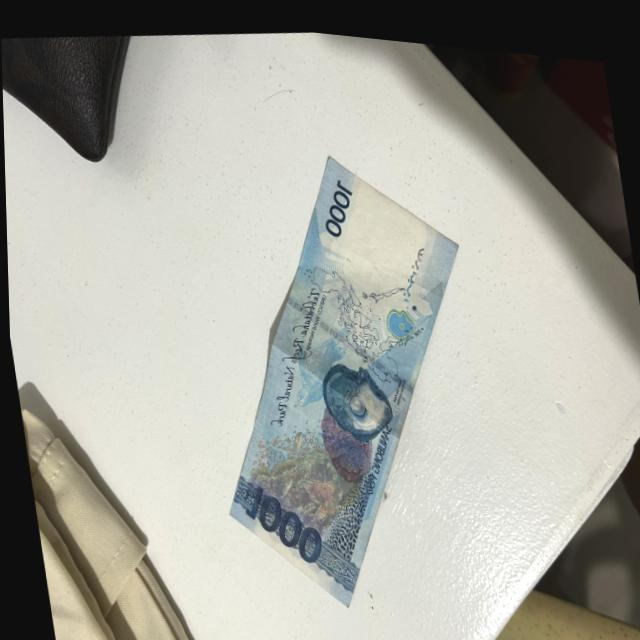1000_pearl: (316, 350, 391, 436)
1000_pearl_watermark: (381, 293, 413, 332)
